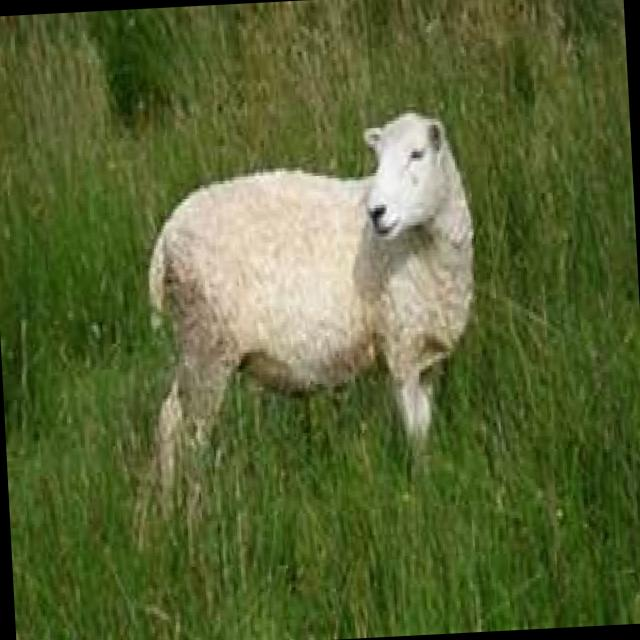animal: (116, 104, 488, 535)
